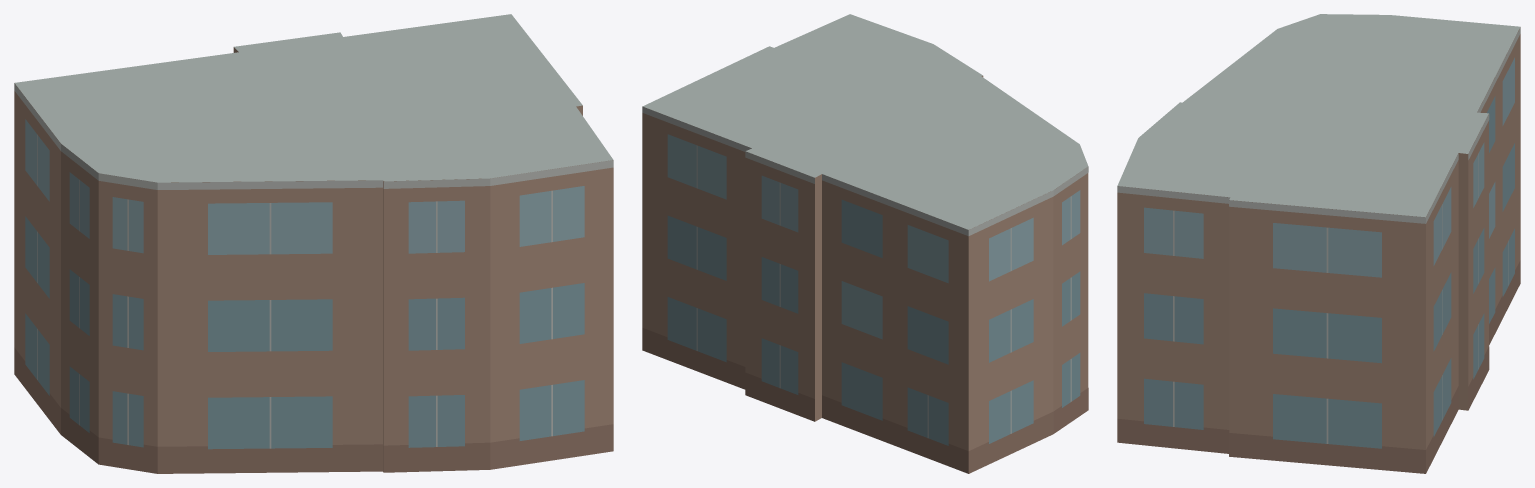
The model's file is survey-upis-32623885.glb.
The picture shows the model from 3 angles, left to right: view 1: azimuth 30°, elevation 25°; view 2: azimuth 150°, elevation 25°; view 3: azimuth 270°, elevation 25°; orthographic projection. The views are drawn at different scales.
Parts seen in each view (by area): view 1: survey-upis-32623885.tmp; view 2: survey-upis-32623885.tmp; view 3: survey-upis-32623885.tmp.
Boxes of the visible parts, bbox=[...] form: survey-upis-32623885.tmp: bbox=[14, 14, 613, 473]; survey-upis-32623885.tmp: bbox=[642, 14, 1088, 473]; survey-upis-32623885.tmp: bbox=[1117, 14, 1520, 473].
Size of the model in its own units: 15.97 by 9.4 by 13.4.
